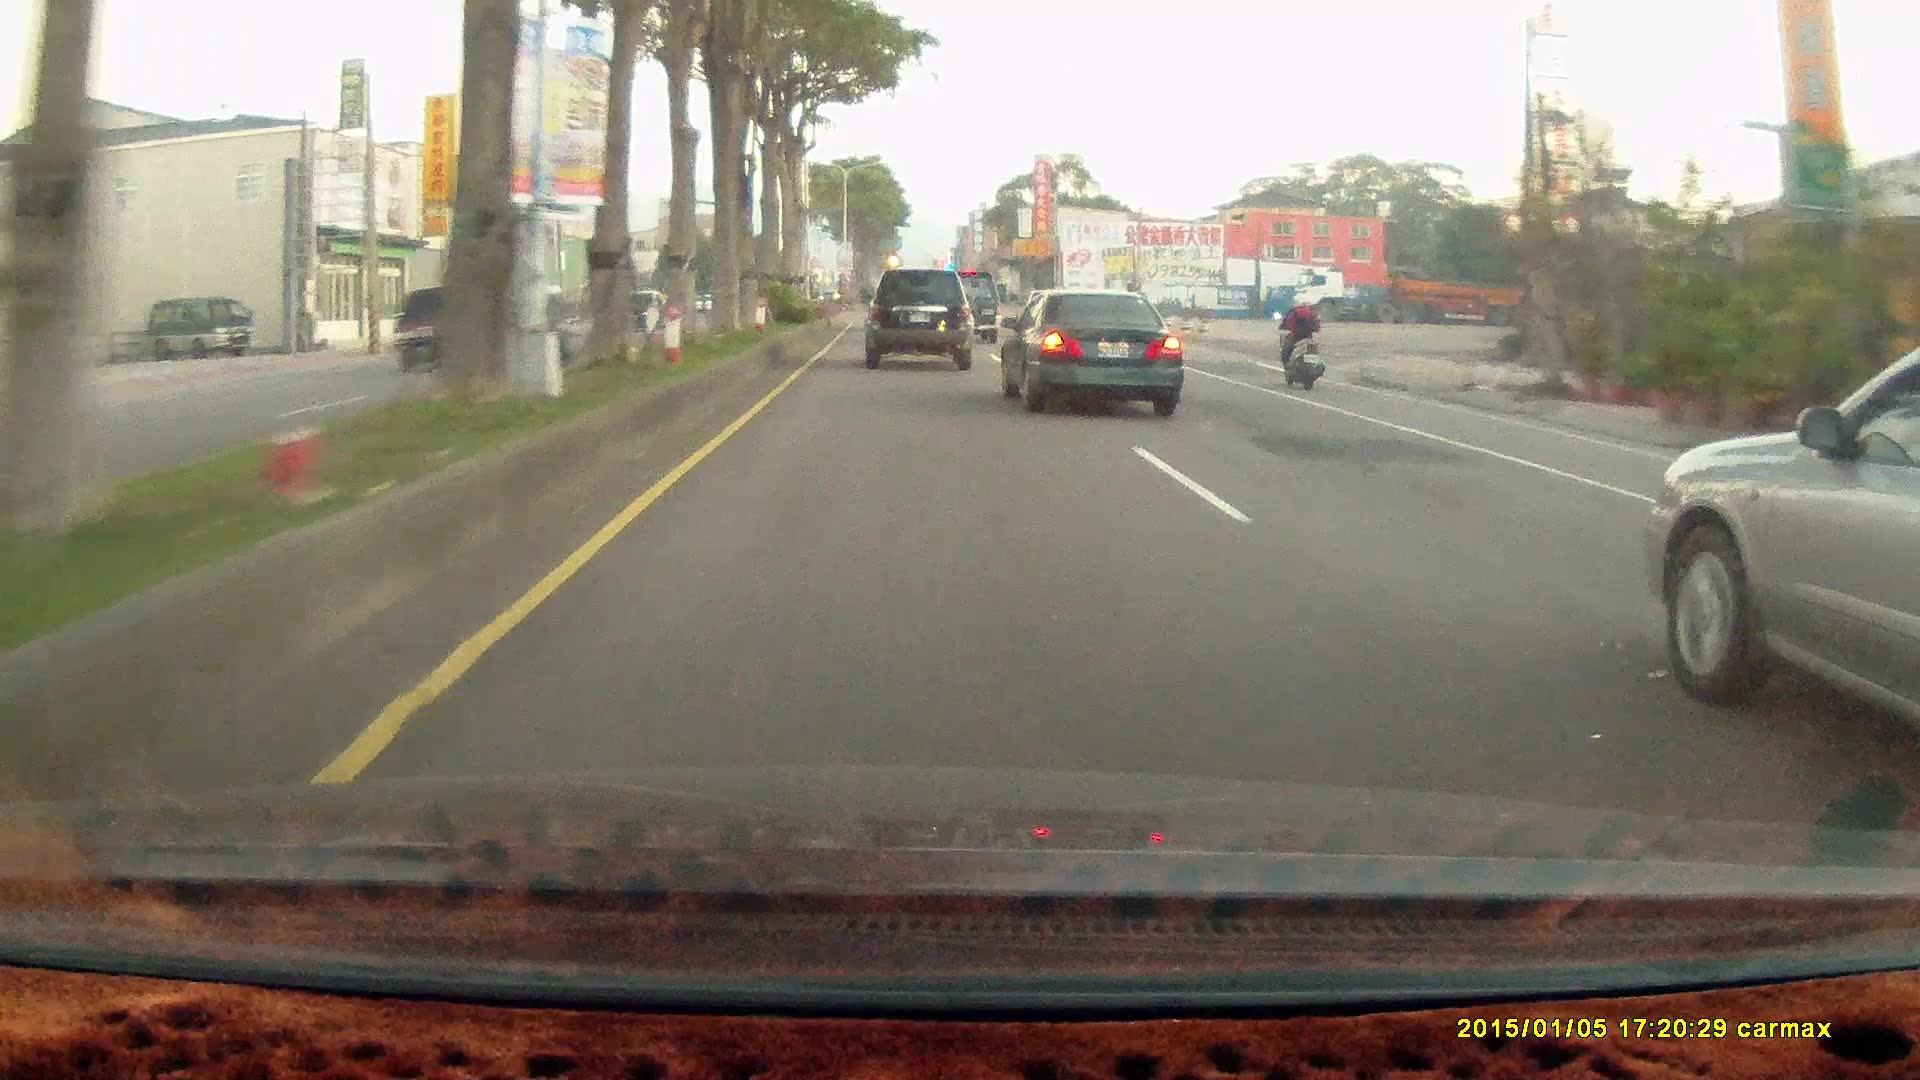rider: (1269, 287, 1332, 392), (1273, 287, 1326, 389)
vehicle: (1650, 341, 1918, 767), (998, 290, 1188, 416), (999, 285, 1182, 412), (1299, 266, 1552, 325), (864, 269, 977, 372), (860, 269, 974, 370), (392, 284, 510, 376), (145, 301, 256, 365), (145, 297, 255, 360), (934, 272, 1004, 347)
